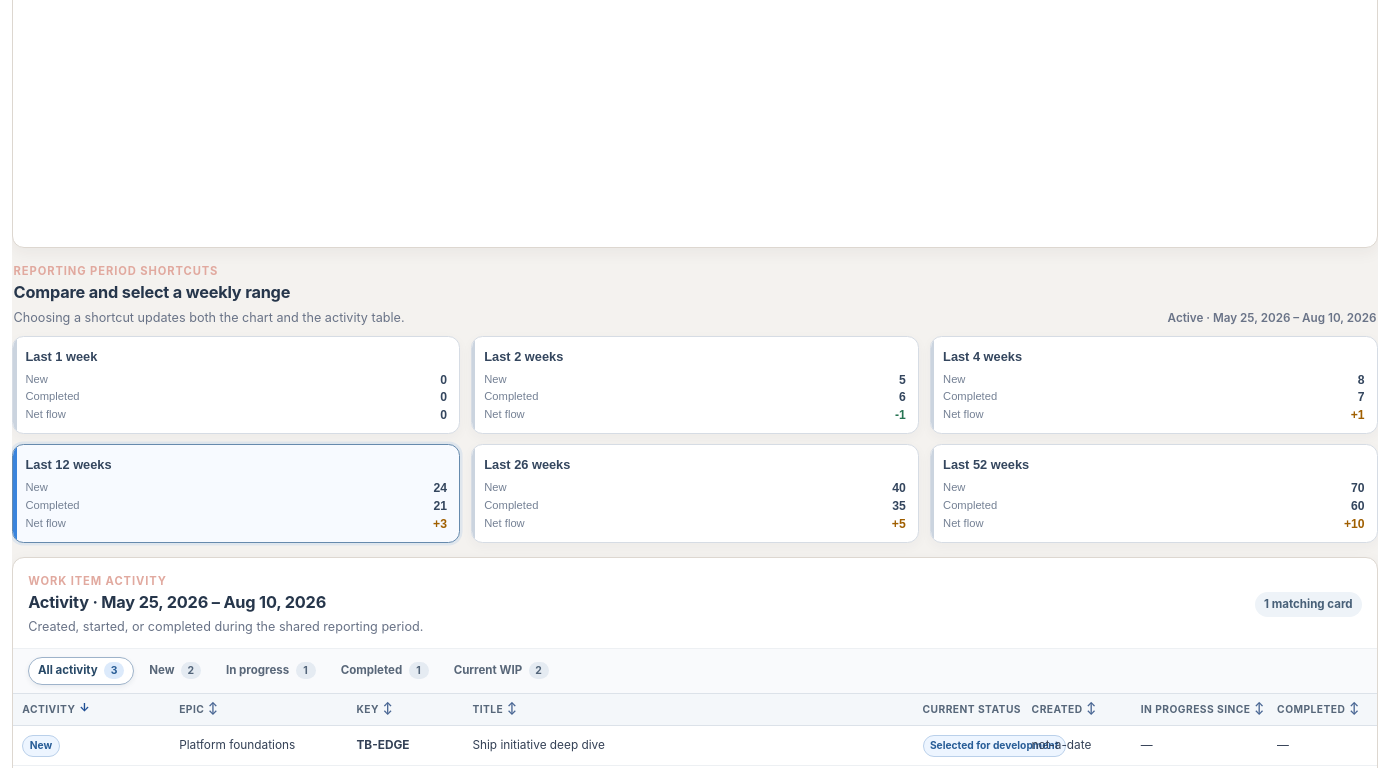
Test: InitiativeDeepDiveScreen › renders empty and truncated table states with resilient card formatting
(page scrolled)
Expected: the text "TB-EDGE" is shown, 356,738 -> 409,752
Expected: the text "1 matching card" is shown, 1255,592 -> 1362,617
Click the button "Last 1 week New 0 Completed 0 Net flow 0".
click(80, 356)  # box 12,336 -> 460,434
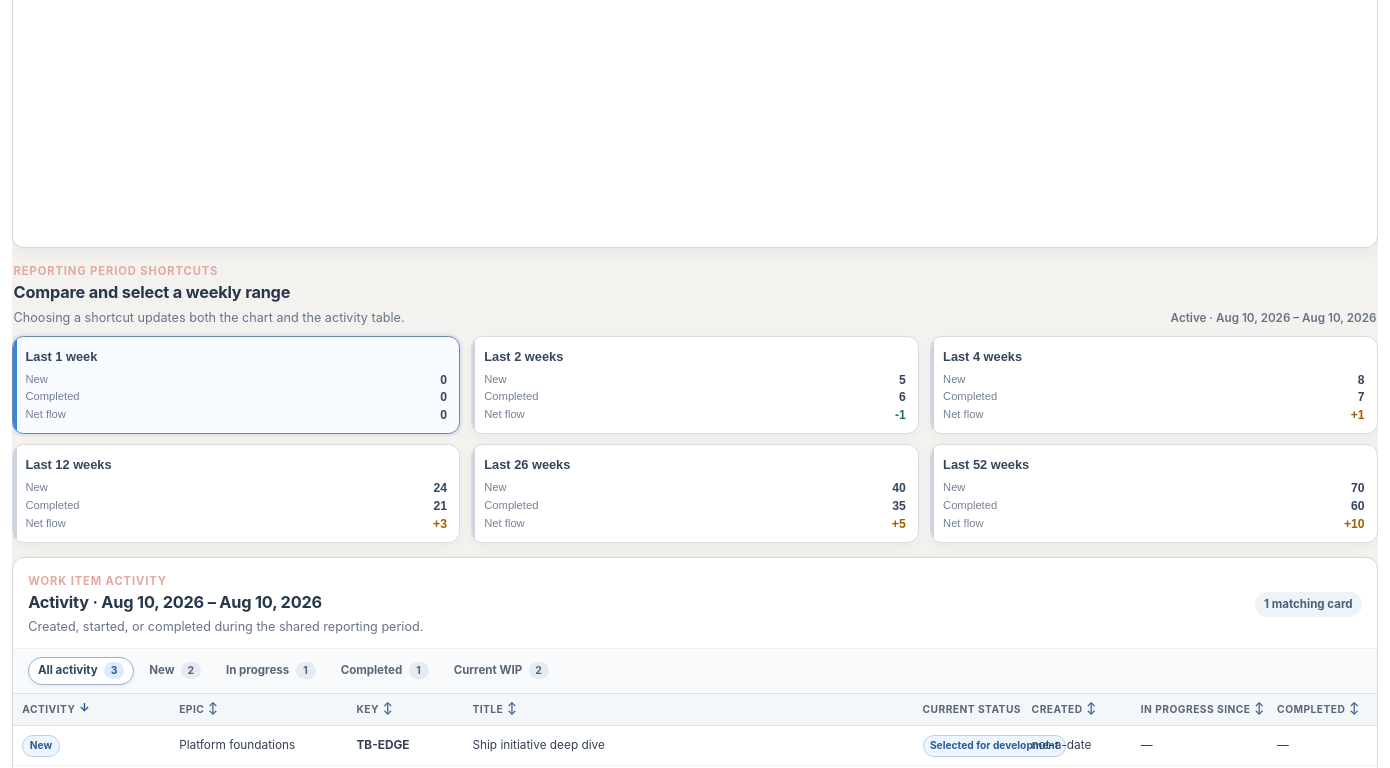
Result: the heading "Activity · Aug 10, 2026 – Aug 10, 2026" is shown at 28,592 -> 322,612
